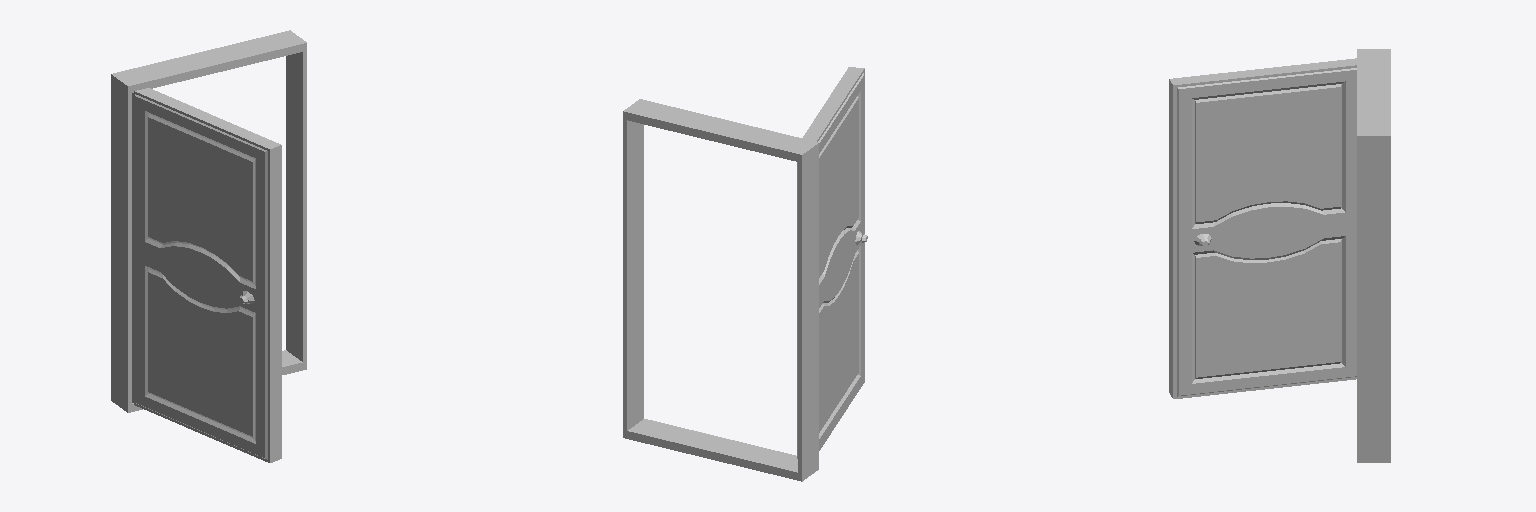
File: drzwiok_000012.obj
The picture shows the model from 3 angles: view 1: azimuth 30°, elevation 25°; view 2: azimuth 150°, elevation 25°; view 3: azimuth 270°, elevation 25°; orthographic projection.
Visible parts, largest first — view 1: Door_4.001_Cube.001, Kostka; view 2: Kostka, Door_4.001_Cube.001; view 3: Door_4.001_Cube.001, Kostka.
Part boxes in pixels (bbox=[...]): Door_4.001_Cube.001: bbox=[132, 88, 281, 462]; Kostka: bbox=[111, 30, 306, 412]; Kostka: bbox=[623, 99, 818, 481]; Door_4.001_Cube.001: bbox=[797, 67, 867, 458]; Door_4.001_Cube.001: bbox=[1169, 58, 1356, 398]; Kostka: bbox=[1357, 49, 1390, 462].
Bounding box in the file's own units: 0.7416 × 1.29 × 0.7932.